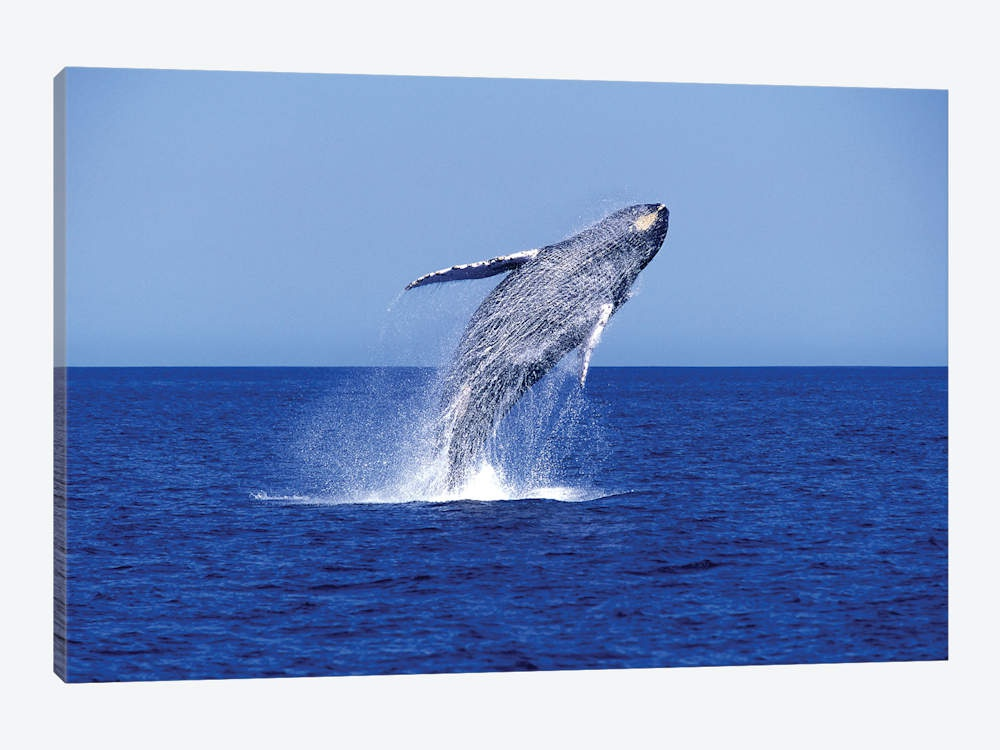humpback: (425, 202, 670, 456)
